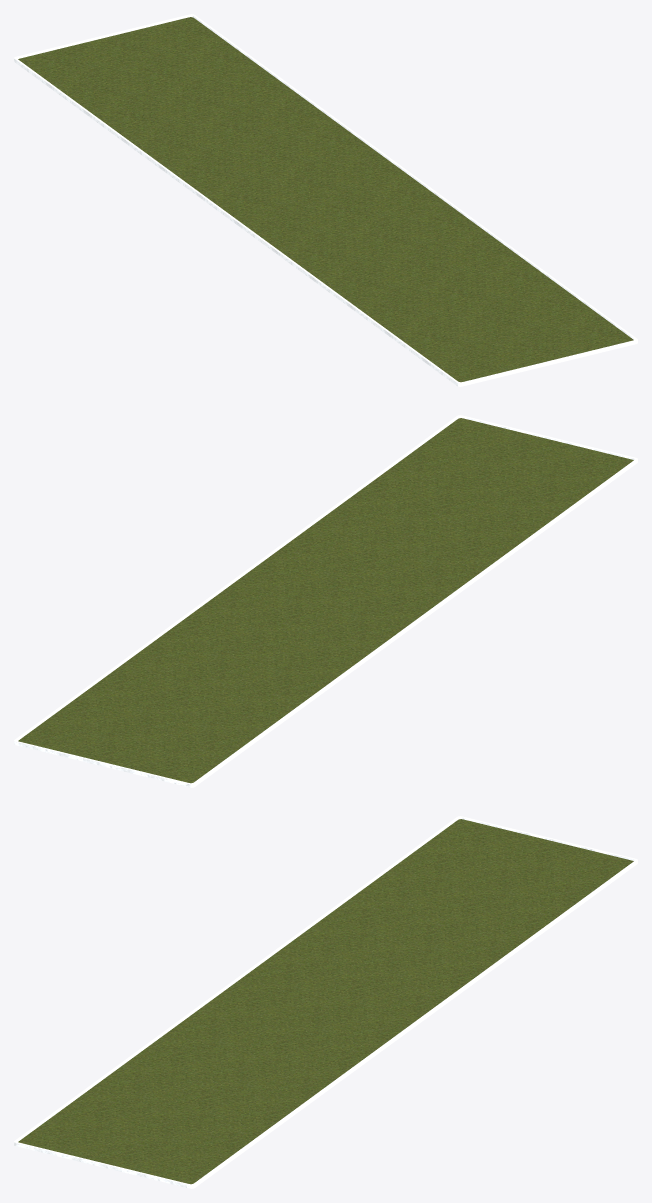
Rendered from SM_RoadLongIslandFlat.fbx.
The picture shows the model from 3 angles, top to bottom: view 1: azimuth 30°, elevation 25°; view 2: azimuth 150°, elevation 25°; view 3: azimuth 330°, elevation 25°; orthographic projection.
Visible parts, largest first — view 1: SM_RoadLongIslandFlat; view 2: SM_RoadLongIslandFlat; view 3: SM_RoadLongIslandFlat.
Boxes of the visible parts, x1,y1,x2,y2 form: SM_RoadLongIslandFlat: [14, 14, 637, 386]; SM_RoadLongIslandFlat: [14, 415, 637, 787]; SM_RoadLongIslandFlat: [14, 816, 637, 1188].
Size of the model in its own units: 326 by 1397 by 5.62.
Materials: 2 (2 with a texture image).
